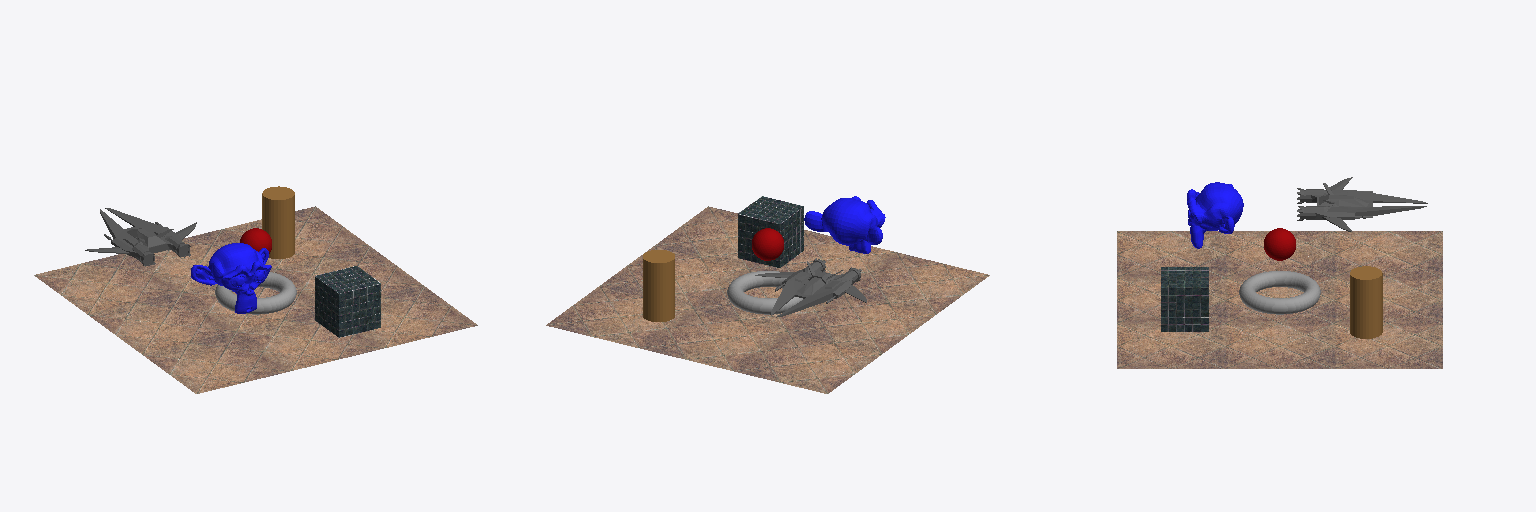
3 renders of one model, left to right at view 1: azimuth 30°, elevation 25°; view 2: azimuth 150°, elevation 25°; view 3: azimuth 270°, elevation 25°, orthographic.
Parts seen in each view (by area): view 1: Plane, Cube, Monkey, fighter1, Cylinder, Torus; view 2: Plane, Cube, Monkey, fighter1, Cylinder, Torus, Icosphere; view 3: Plane, Cube, fighter1, Monkey, Torus, Cylinder, Icosphere.
Part boxes in pixels (left/top/right/bottom): Plane: left=34, top=206, right=477, bottom=393; Cube: left=315, top=266, right=380, bottom=337; Monkey: left=191, top=243, right=271, bottom=313; fighter1: left=85, top=208, right=196, bottom=266; Cylinder: left=262, top=186, right=294, bottom=258; Torus: left=215, top=272, right=296, bottom=314; Plane: left=546, top=206, right=989, bottom=393; Cube: left=738, top=196, right=803, bottom=267; Monkey: left=804, top=196, right=885, bottom=253; fighter1: left=755, top=258, right=866, bottom=317; Cylinder: left=643, top=250, right=674, bottom=321; Torus: left=727, top=271, right=802, bottom=314; Icosphere: left=752, top=228, right=783, bottom=260; Plane: left=1117, top=231, right=1442, bottom=368; Cube: left=1161, top=267, right=1208, bottom=331; fighter1: left=1297, top=177, right=1427, bottom=231; Monkey: left=1187, top=182, right=1243, bottom=248; Torus: left=1239, top=271, right=1320, bottom=314; Cylinder: left=1350, top=266, right=1382, bottom=338; Icosphere: left=1264, top=228, right=1295, bottom=260.
Size of the model in its own units: 10 by 3 by 10.
7 materials, 2 textured.